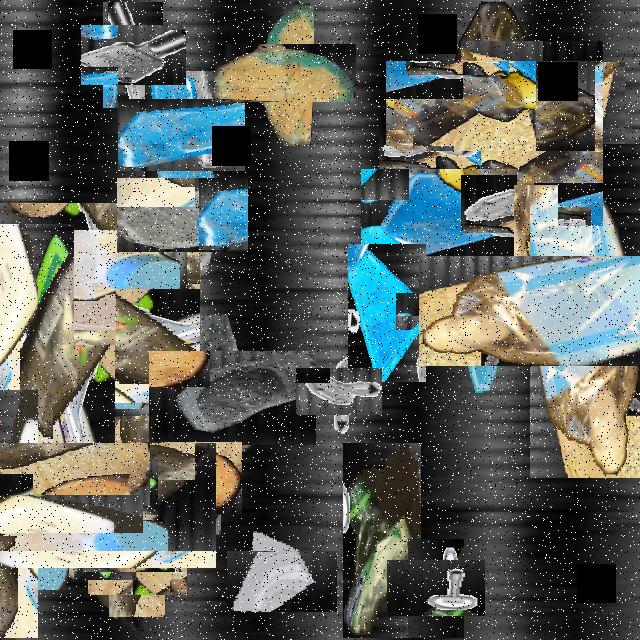glass: (166, 333, 298, 463), (425, 254, 553, 382), (378, 152, 500, 275), (348, 244, 426, 382), (130, 164, 234, 266), (131, 85, 231, 185), (239, 538, 325, 624), (98, 528, 176, 606)
metal: (92, 13, 175, 97), (53, 345, 115, 455), (390, 100, 470, 181), (397, 550, 475, 627), (306, 358, 372, 424), (514, 185, 558, 263), (404, 285, 456, 337)
plastic: (0, 216, 187, 416), (474, 200, 640, 422), (0, 406, 181, 603), (0, 224, 74, 590), (415, 32, 565, 182), (26, 416, 136, 580), (343, 443, 421, 638), (0, 442, 90, 585)
wood: (450, 52, 614, 215), (83, 416, 181, 572), (235, 23, 335, 123), (138, 432, 232, 524)
